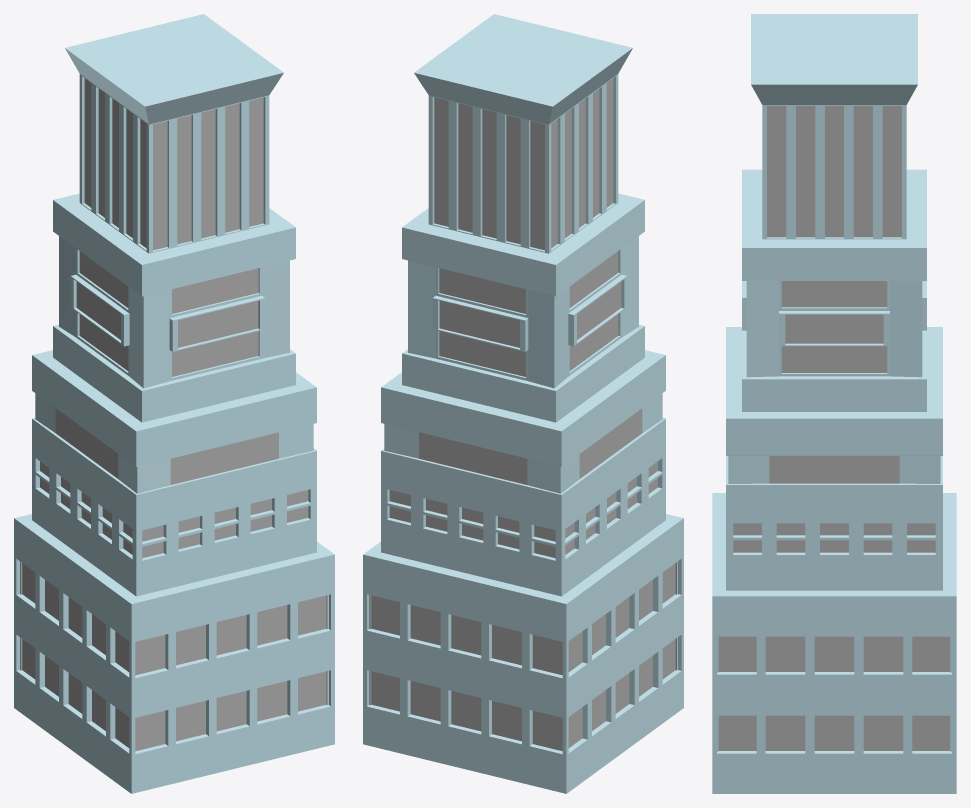
Rendered from wiezo3.fbx.
3 renders of one model, left to right at view 1: azimuth 30°, elevation 25°; view 2: azimuth 150°, elevation 25°; view 3: azimuth 270°, elevation 25°, orthographic. The views are drawn at different scales.
Visible parts, largest first — view 1: Cube; view 2: Cube; view 3: Cube.
Boxes of the visible parts, x1,y1,x2,y2 form: Cube: [14, 14, 334, 793]; Cube: [363, 14, 683, 793]; Cube: [712, 14, 956, 793].
Size of the model in its own units: 418 by 1308 by 418.
